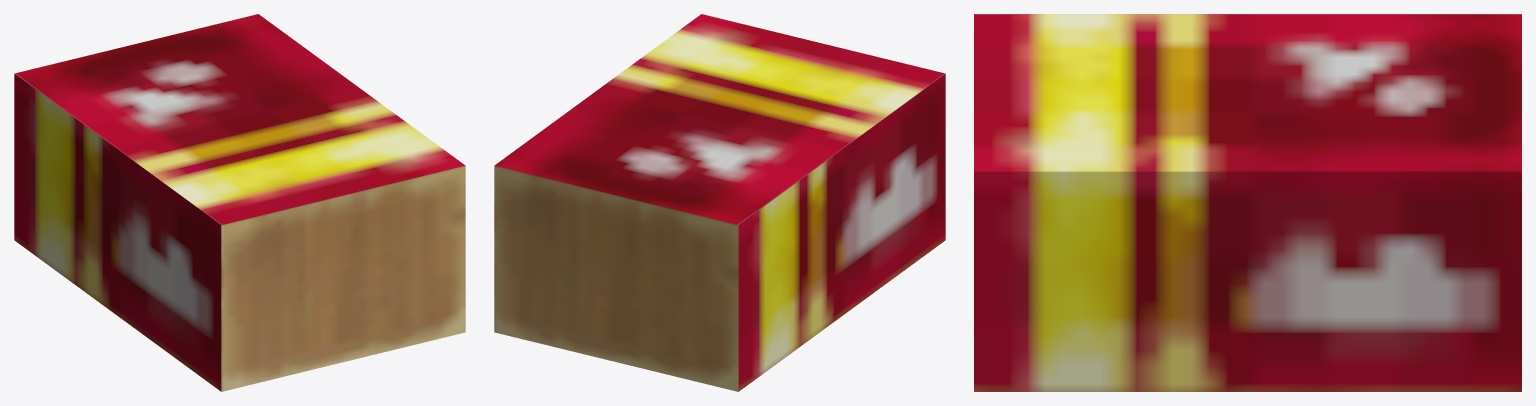
The model's file is gunshopammoboxred.obj.
3 renders of one model, left to right at view 1: azimuth 30°, elevation 25°; view 2: azimuth 150°, elevation 25°; view 3: azimuth 270°, elevation 25°, orthographic. The views are drawn at different scales.
Parts seen in each view (by area): view 1: GunShopAmmoBoxRed; view 2: GunShopAmmoBoxRed; view 3: GunShopAmmoBoxRed.
Boxes of the visible parts, x1=… form: GunShopAmmoBoxRed: x1=14, y1=14, x2=465, y2=391; GunShopAmmoBoxRed: x1=494, y1=14, x2=945, y2=391; GunShopAmmoBoxRed: x1=974, y1=14, x2=1521, y2=391.
Size of the model in its own units: 0.2511 by 0.1638 by 0.3689.
